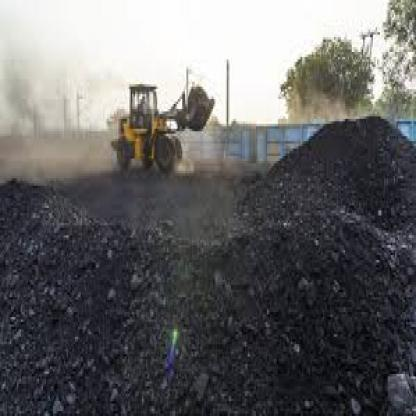Sedimentary_coal: (386, 364, 414, 411), (185, 84, 210, 126)
